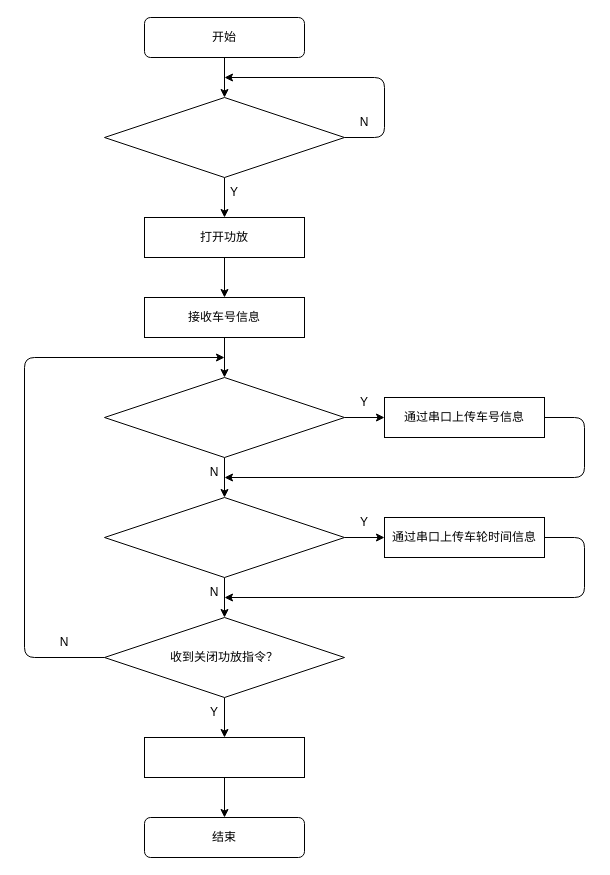
This 610x875 diagram has some shape labels left out. The shapes that lost their labels are listed below. From the top down, each one's centre as x and y in pixels, then its label:
(x=224, y=137): 收到打开攻防指令？
(x=224, y=417): 收到车号信息？
(x=224, y=537): 收到车轮时间信息？
(x=224, y=757): 关闭功放
